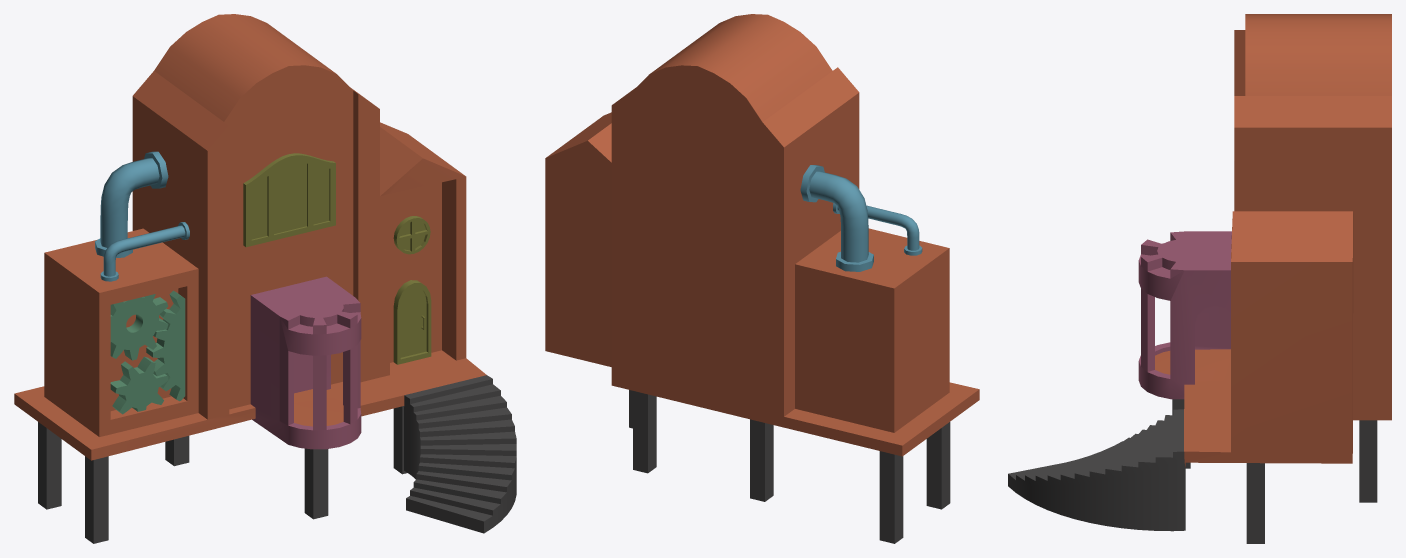
The model's file is Casita4.fbx.
The picture shows the model from 3 angles, left to right: view 1: azimuth 30°, elevation 25°; view 2: azimuth 150°, elevation 25°; view 3: azimuth 270°, elevation 25°; orthographic projection. The views are drawn at different scales.
Visible parts, largest first — view 1: pCylinder25, pasted__pGear1, pGear1, pasted__pasted__pGear1; view 2: pCylinder25; view 3: pCylinder25.
Boxes of the visible parts, box(x1,y1,x2,y2) form: pCylinder25: box(14, 14, 516, 543); pasted__pGear1: box(110, 294, 168, 360); pGear1: box(146, 290, 185, 401); pasted__pasted__pGear1: box(110, 356, 168, 414); pCylinder25: box(545, 14, 979, 543); pCylinder25: box(1008, 14, 1391, 543).
Size of the model in its own units: 22.04 by 24.52 by 18.66.
